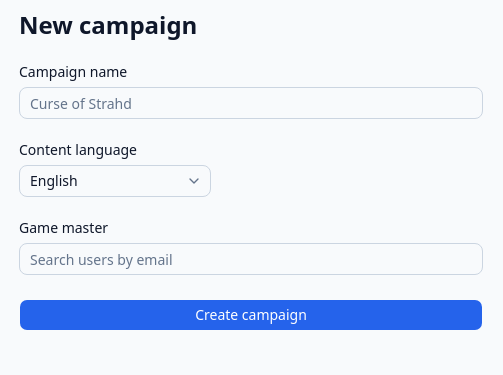
Test: CreateCampaignPage › shows an empty state when a search returns no users
Type "zzz" into the field labelled "Game master".
click(251, 259); type("zzz")  # box [19,243,483,275]
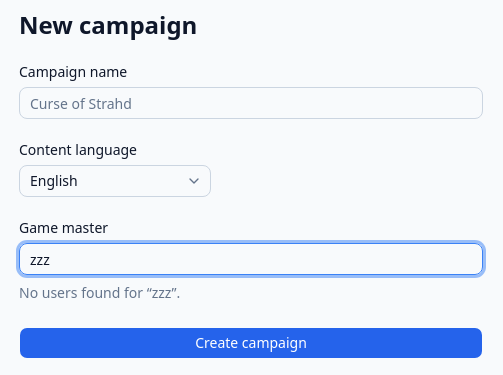
Result: the text "No users found for “zzz”." is shown at [19,283,180,302]
